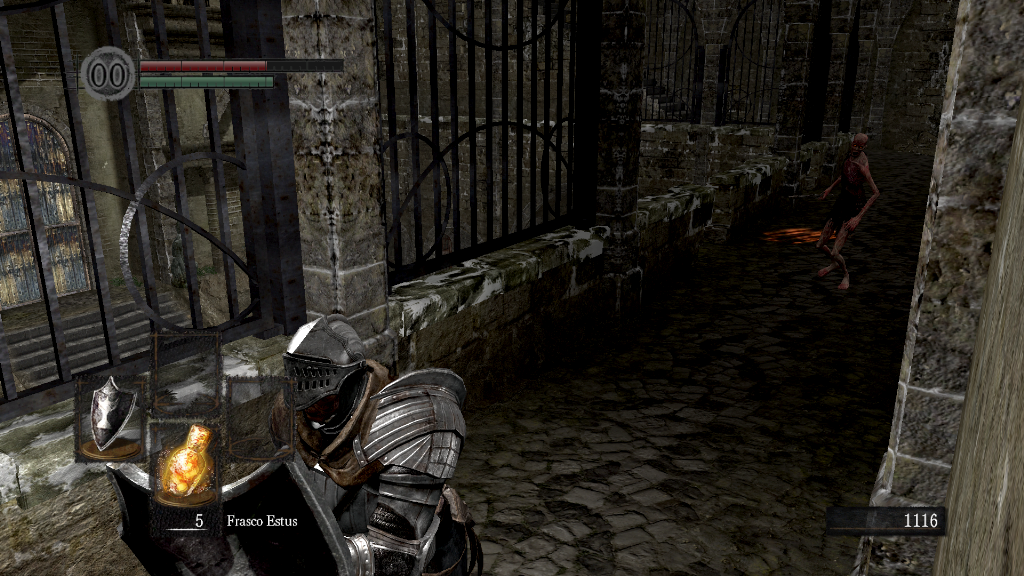health: (138, 58, 343, 71)
hollow: (816, 131, 883, 296)
humanity: (80, 45, 136, 102)
player: (105, 314, 487, 576)
souls: (825, 506, 945, 536)
stamina: (138, 74, 274, 88)
